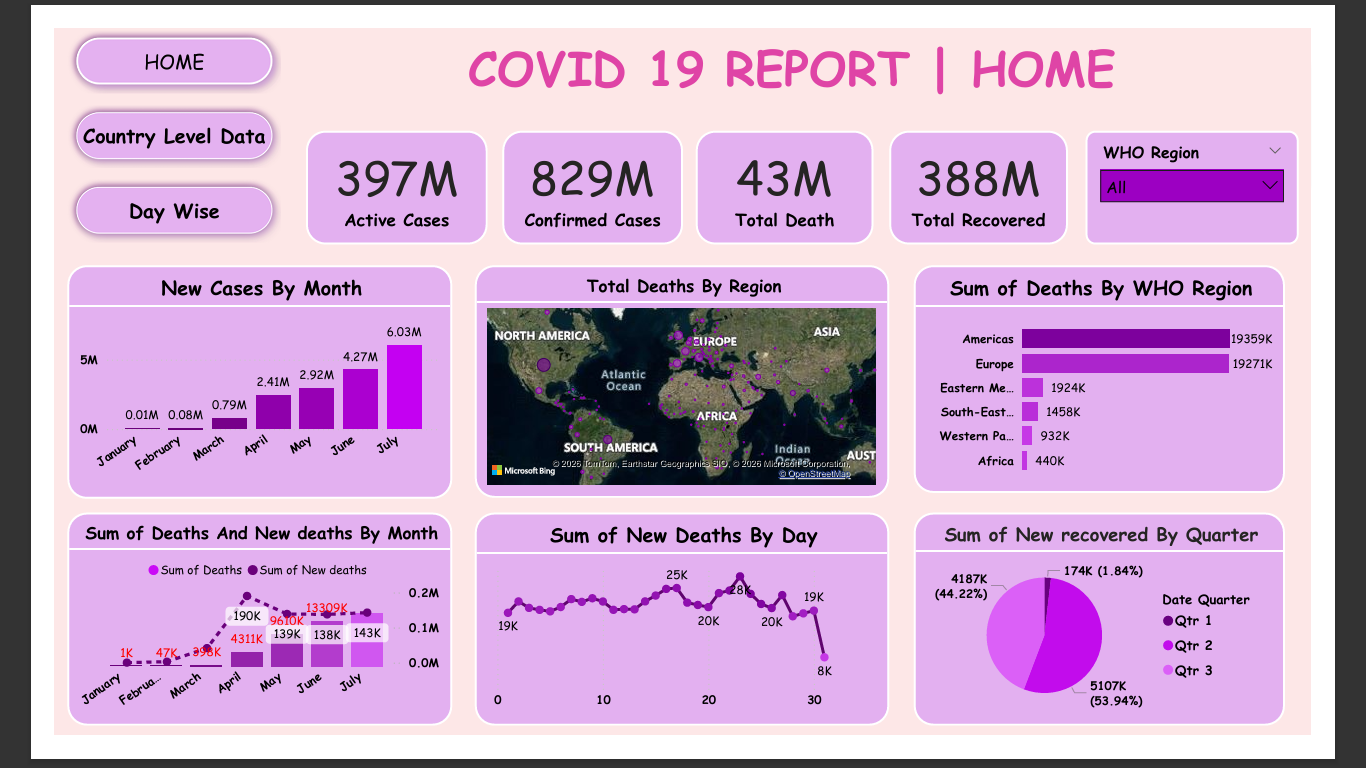

Layout of this report page (visuals, bound fields, positions):
{"tool":"powerbi","page":{"name":"HOME","canvas":[1280,720],"ordinal":0},"visuals":[{"type":"textbox","box":[255.9,0,1010.6,86.7],"z":0},{"type":"pageNavigator","box":[12.9,0,218.6,220],"z":1000},{"type":"card","fields":{"Values":["Sum(full_grouped.Deaths)"]},"box":[653.5,104.1,180.7,115.7],"z":2000},{"type":"card","fields":{"Values":["Sum(full_grouped.Active)"]},"box":[255.7,104.3,185.7,115.7],"z":3000},{"type":"card","fields":{"Values":["Sum(full_grouped.Confirmed)"]},"box":[455.7,104.3,184.3,115.7],"z":4000},{"type":"card","fields":{"Values":["Sum(full_grouped.Recovered)"]},"box":[850.1,104.1,182.2,115.7],"z":5000},{"type":"slicer","fields":{"Values":["full_grouped.WHO Region"]},"box":[1049.6,104.1,216.9,115.7],"z":6000},{"type":"clusteredColumnChart","title":"New Cases By Month","fields":{"Y":["Sum(full_grouped.New cases)"],"Category":["full_grouped.Date.Variation.Date Hierarchy.Month"]},"box":[13,241.4,391.8,237.1],"z":7000},{"type":"clusteredBarChart","title":"Sum of Deaths By WHO Region","fields":{"Category":["full_grouped.WHO Region"],"Y":["Sum(full_grouped.Deaths)"]},"box":[874.7,241.4,378.8,231.3],"z":8000},{"type":"lineStackedColumnComboChart","title":"Sum of Deaths And New deaths By Month","fields":{"Y":["Sum(full_grouped.Deaths)"],"Category":["full_grouped.Date.Variation.Date Hierarchy.Month"],"Y2":["Sum(full_grouped.New deaths)"]},"box":[12.8,493.2,392.6,216.9],"z":9000},{"type":"lineChart","title":"Sum of New Deaths By Day","fields":{"Y":["Sum(full_grouped.New deaths)"],"Category":["full_grouped.Date.Variation.Date Hierarchy.Day"]},"box":[428,493,422.2,216.9],"z":10000},{"type":"pieChart","title":"Sum of New recovered By Quarter","fields":{"Y":["Sum(full_grouped.New recovered)"],"Category":["full_grouped.Date.Variation.Date Hierarchy.Quarter"]},"box":[874.7,493,378.8,216.9],"z":11000},{"type":"map","title":"Total Deaths By Region","fields":{"Size":["Sum(full_grouped.Deaths)"],"Category":["full_grouped.Country/Region"]},"box":[428,240.9,422.4,236.7],"z":12000}]}

Visuals, with their boxes in screenshot pixels (x1, y1, x2, y2), scaled from the page's 1280x720 canvas onto the 1366x768 screenshot:
textbox: (x1=273, y1=0, x2=1352, y2=92)
pageNavigator: (x1=14, y1=0, x2=247, y2=235)
card - Sum(full_grouped.Deaths): (x1=697, y1=111, x2=890, y2=234)
card - Sum(full_grouped.Active): (x1=273, y1=111, x2=471, y2=235)
card - Sum(full_grouped.Confirmed): (x1=486, y1=111, x2=683, y2=235)
card - Sum(full_grouped.Recovered): (x1=907, y1=111, x2=1102, y2=234)
slicer - full_grouped.WHO Region: (x1=1120, y1=111, x2=1352, y2=234)
"New Cases By Month" clusteredColumnChart: (x1=14, y1=257, x2=432, y2=510)
"Sum of Deaths By WHO Region" clusteredBarChart: (x1=933, y1=257, x2=1338, y2=504)
"Sum of Deaths And New deaths By Month" lineStackedColumnComboChart: (x1=14, y1=526, x2=433, y2=757)
"Sum of New Deaths By Day" lineChart: (x1=457, y1=526, x2=907, y2=757)
"Sum of New recovered By Quarter" pieChart: (x1=933, y1=526, x2=1338, y2=757)
"Total Deaths By Region" map: (x1=457, y1=257, x2=908, y2=509)
